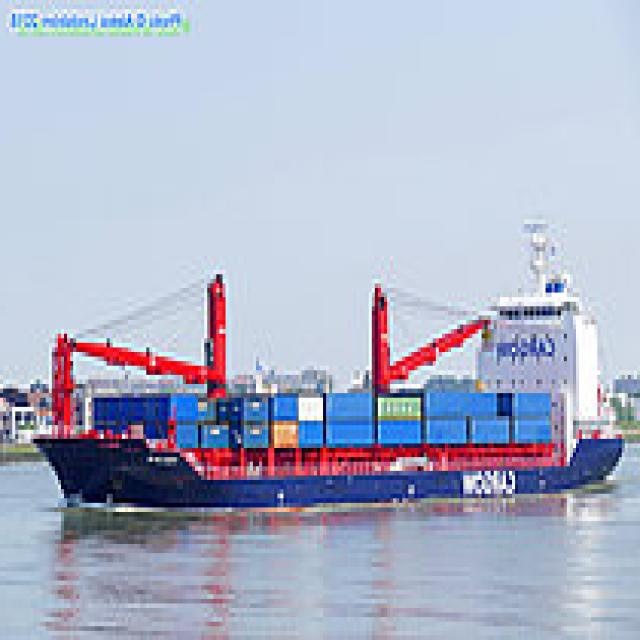Cargo: (33, 210, 631, 512)
